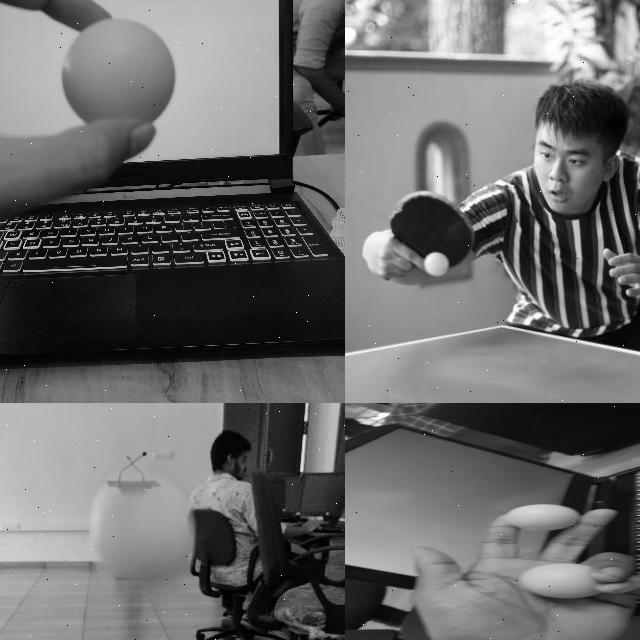ping-pong-ball: (59, 18, 172, 126), (89, 492, 191, 584), (519, 562, 601, 600), (511, 504, 584, 530), (423, 253, 447, 277)
